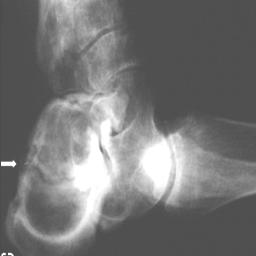cancer: (22, 97, 93, 243)
